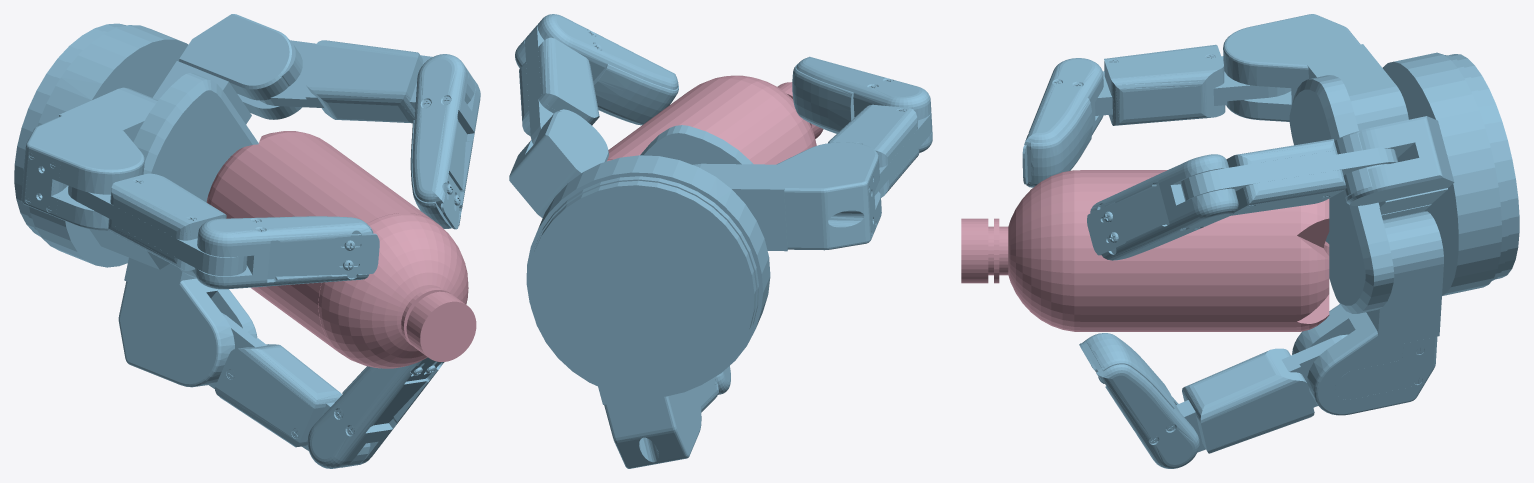
The picture shows the model from 3 angles, left to right: view 1: azimuth 30°, elevation 25°; view 2: azimuth 150°, elevation 25°; view 3: azimuth 270°, elevation 25°; orthographic projection.
Visible parts, largest first — view 1: world; view 2: world; view 3: world.
Part boxes in pixels (left/top/right/bottom): world: left=14, top=14, right=480, bottom=468; world: left=509, top=14, right=932, bottom=468; world: left=961, top=14, right=1519, bottom=468.
Bounding box in the file's own units: 0.1726 × 0.1503 × 0.2071.
